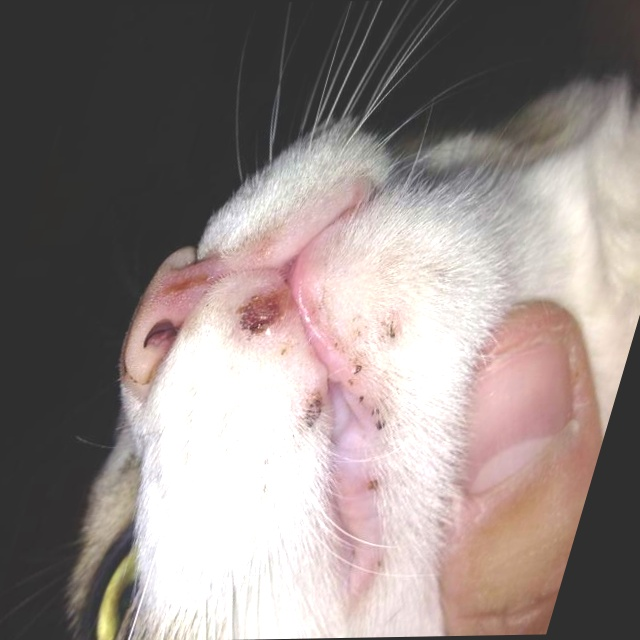acne: (296, 389, 329, 430), (377, 315, 412, 343)
